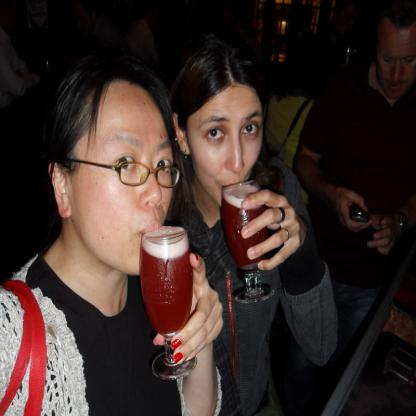drinking: (140, 226, 198, 380), (221, 180, 275, 304)
